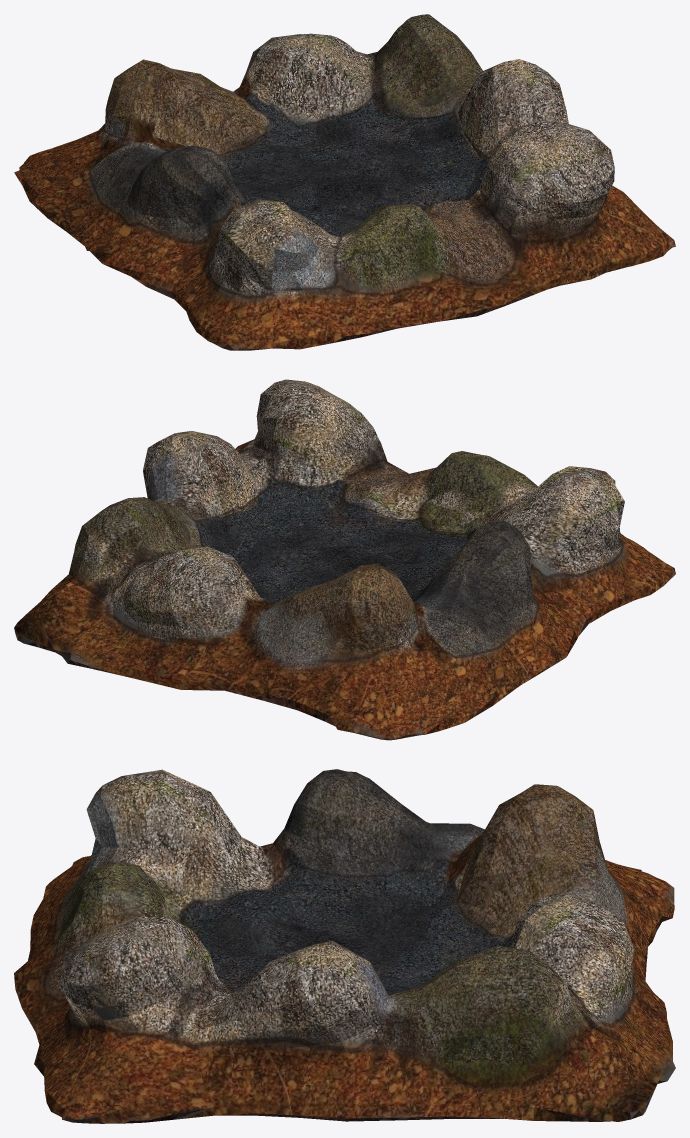
The model's file is campfire2.glb.
3 views of the same model, one above another, from view 1: azimuth 30°, elevation 25°; view 2: azimuth 150°, elevation 25°; view 3: azimuth 270°, elevation 25° (orthographic). The views are drawn at different scales.
Visible parts, largest first — view 1: Retopo_Cube; view 2: Retopo_Cube; view 3: Retopo_Cube.
Boxes of the visible parts, x1,y1,x2,y2 form: Retopo_Cube: (14,14,675,350); Retopo_Cube: (14,379,675,740); Retopo_Cube: (14,769,675,1123).
Bounding box in the file's own units: 2.82 × 0.9178 × 2.94.
Materials: 1 (1 with a texture image).
